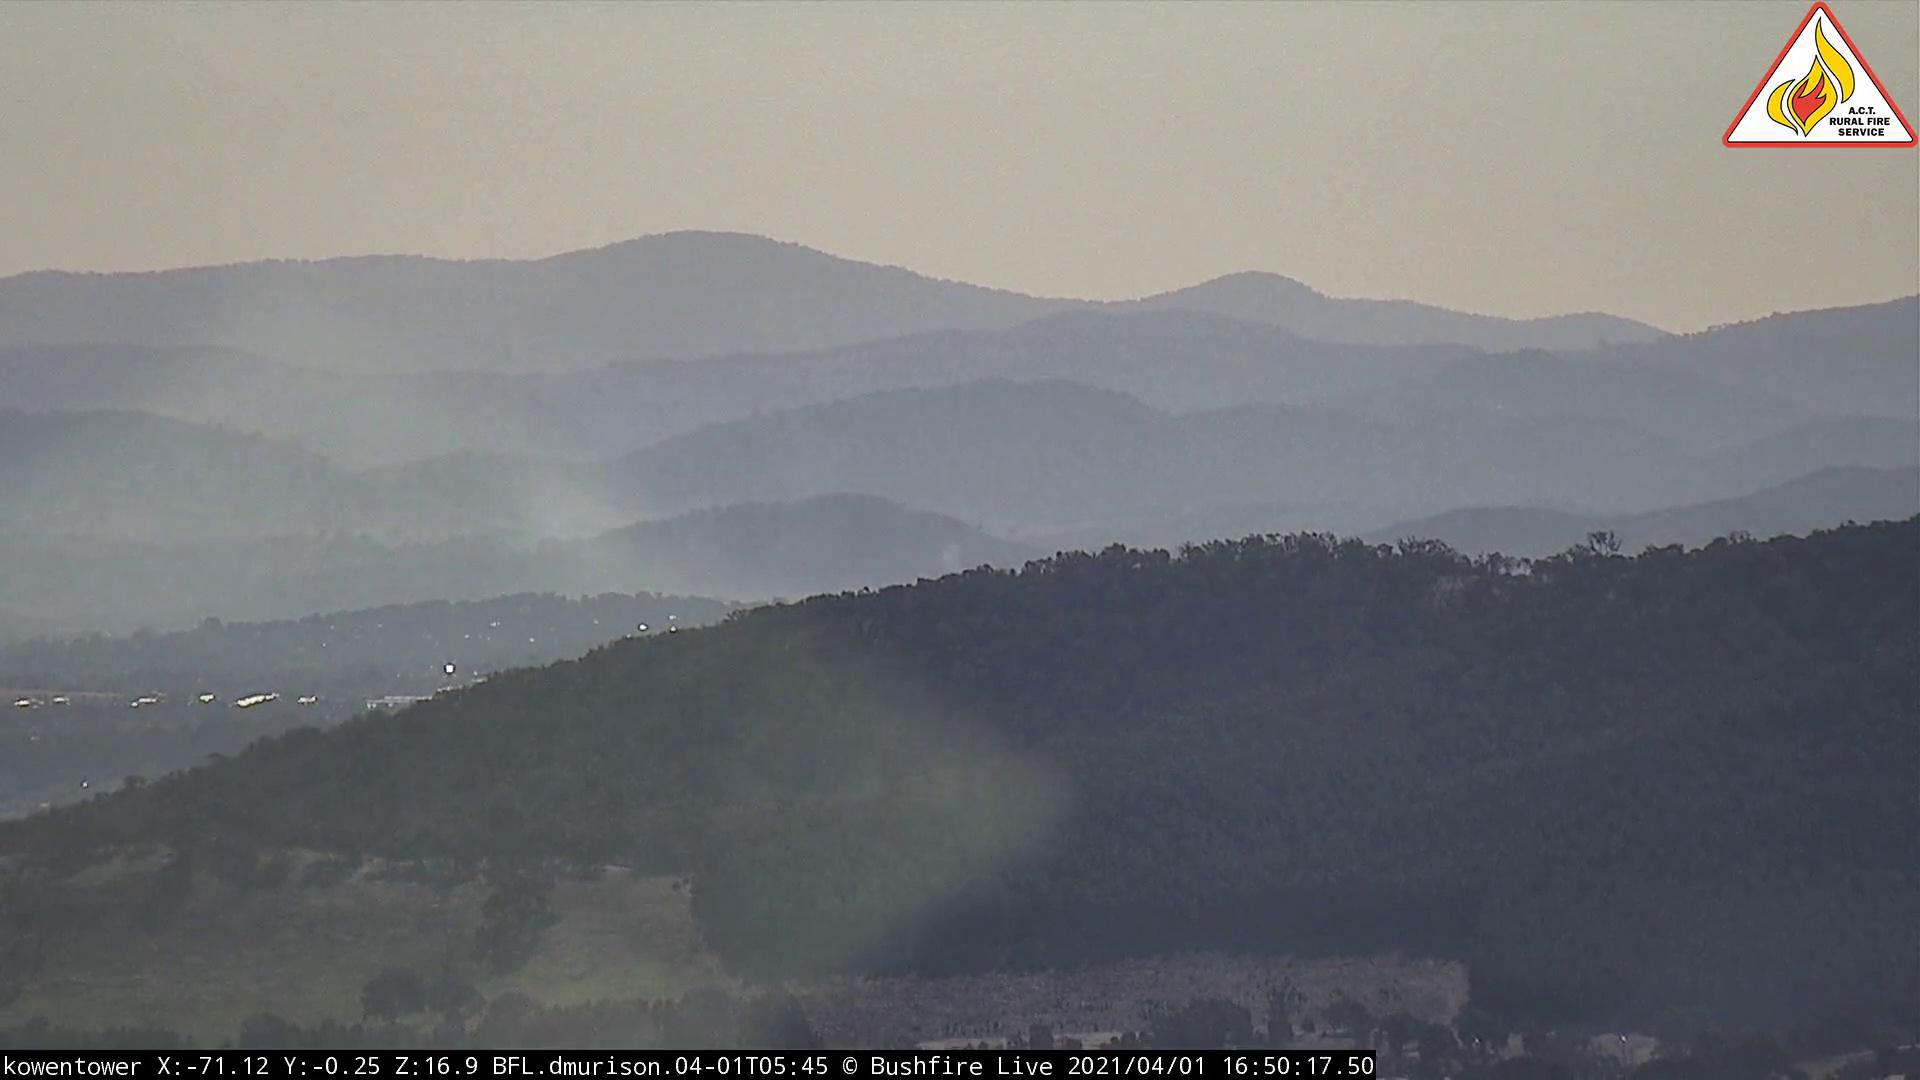Smoke: (429, 274, 1063, 588)
